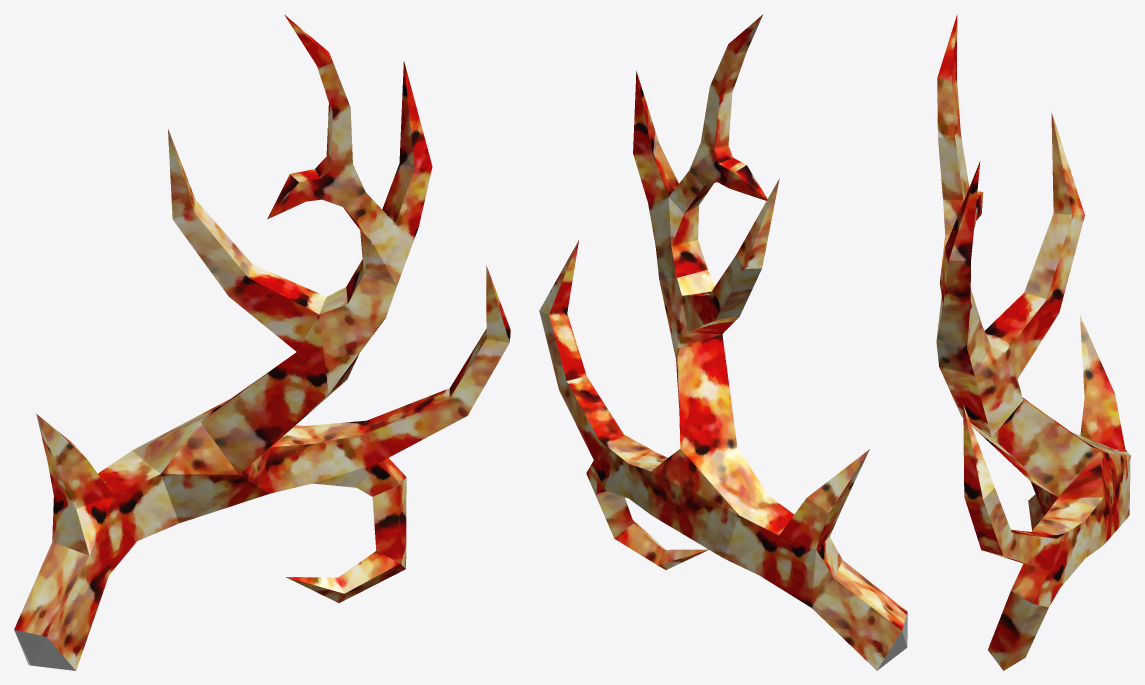
File: BigLeftAntler.fbx
3 renders of one model, left to right at view 1: azimuth 30°, elevation 25°; view 2: azimuth 150°, elevation 25°; view 3: azimuth 270°, elevation 25°, orthographic. The views are drawn at different scales.
Visible parts, largest first — view 1: BigLeftAntler; view 2: BigLeftAntler; view 3: BigLeftAntler.
Boxes of the visible parts, x1,y1,x2,y2 form: BigLeftAntler: (14,14,510,670); BigLeftAntler: (539,15,907,670); BigLeftAntler: (936,14,1130,670).
Bounding box in the file's own units: 1115 × 1528 × 427.
